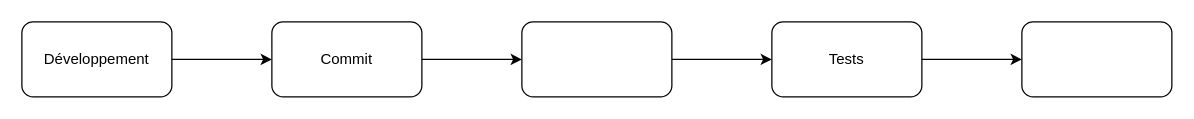
This 1194x119 diagram has some shape labels left out. Here are the shapes that lost their labels. From the top down, the centre of each, then its label:
At point 596,59: "Build".
At point 1096,59: "Déploiement".
